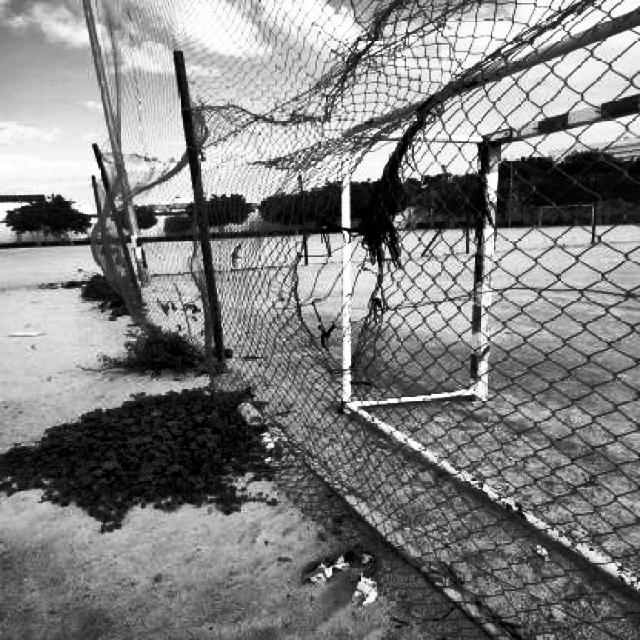anomaly-fence: (139, 6, 626, 127), (258, 173, 405, 365), (70, 153, 151, 312)
